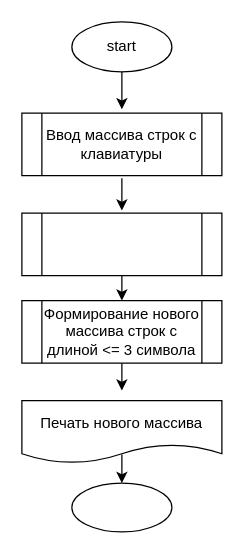
The diagram is 244 pixels wide and 554 high, and some of its shapes have lost their labels. The shapes that lost their labels are listed below. From the top down, each one's centre as x and y in pixels, then its label:
point (121, 244): Печать первоначального массива
point (121, 507): end
